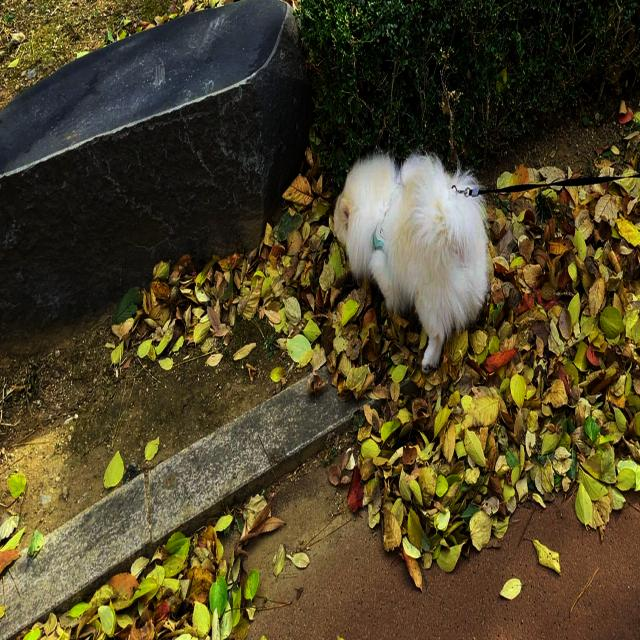Dog: (332, 148, 490, 376)
